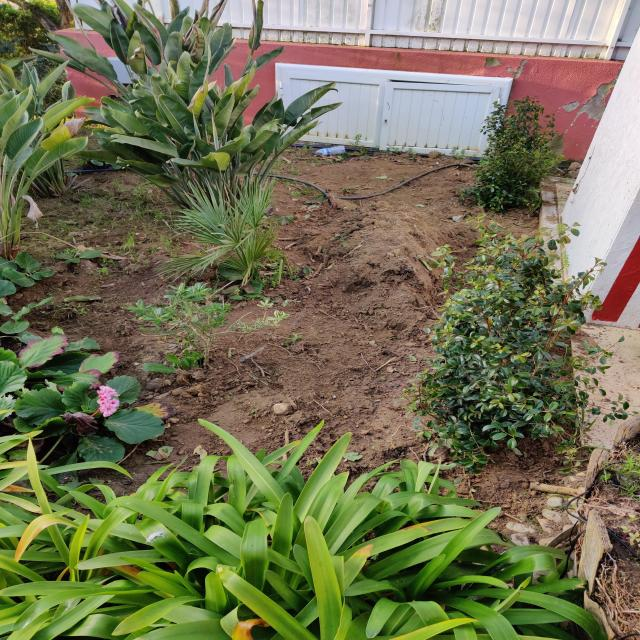litter: (315, 146, 346, 156)
